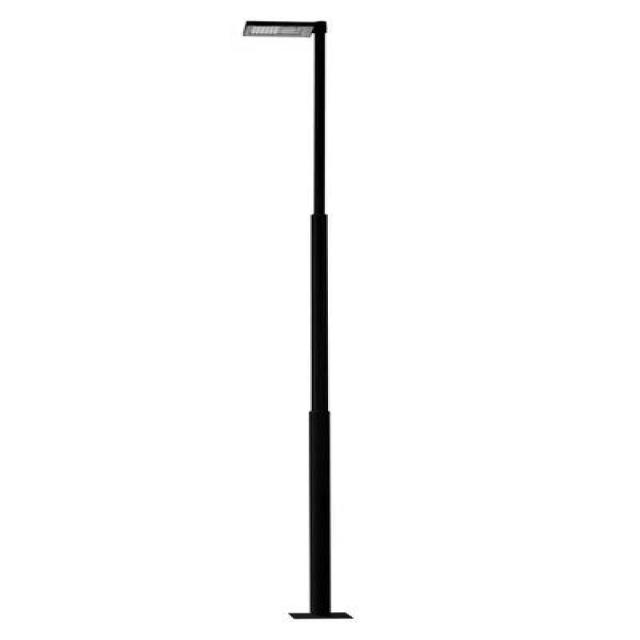Pole: (245, 22, 348, 620)
